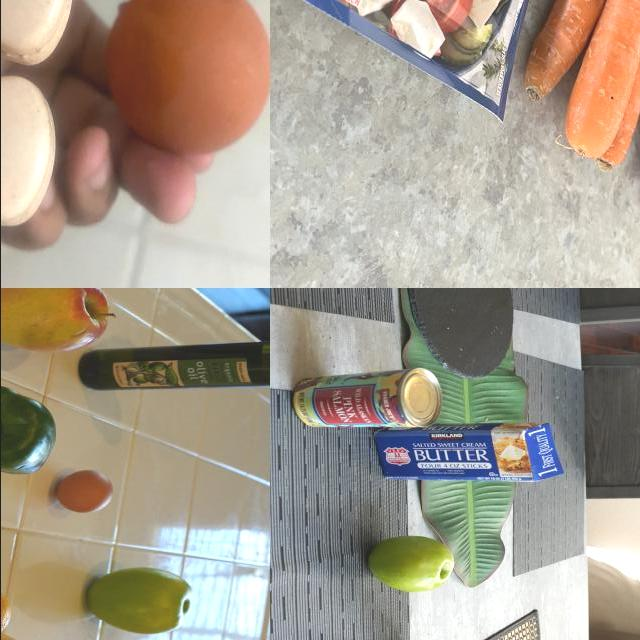bell_pepper: (1, 370, 65, 491)
carrot: (552, 1, 640, 200), (497, 1, 605, 159)
egg: (101, 1, 270, 160), (51, 468, 123, 519)
